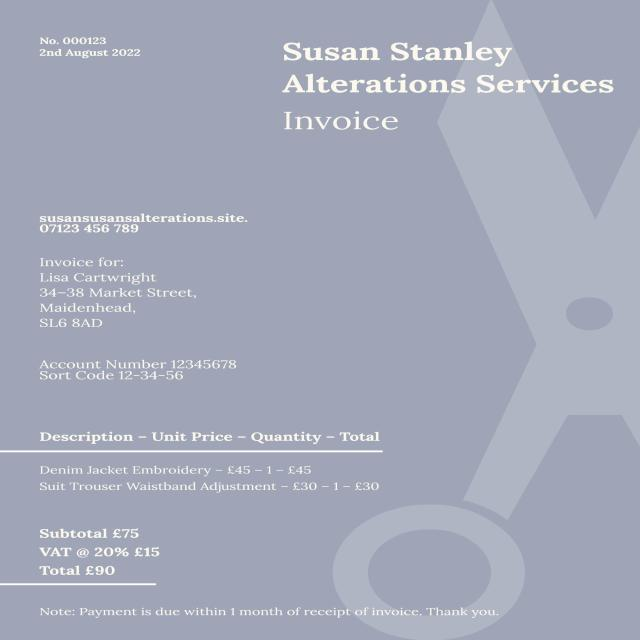paragraph: (261, 34, 623, 101), (31, 256, 212, 337), (36, 596, 510, 625), (24, 516, 167, 585), (34, 351, 246, 388), (38, 208, 253, 244), (277, 106, 418, 151), (27, 28, 156, 72)
table: (29, 421, 414, 508)
